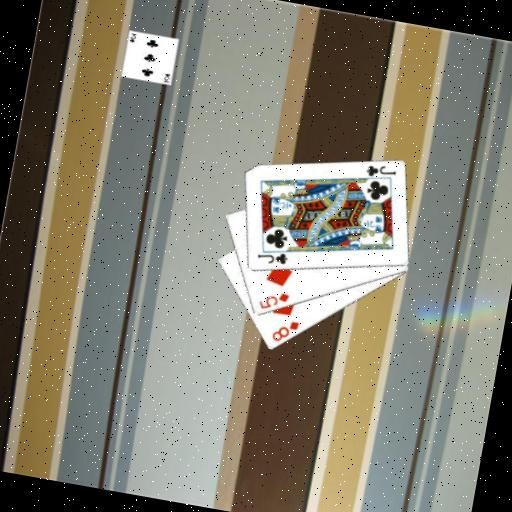5D: (254, 286, 291, 315)
8D: (267, 315, 301, 347)
JC: (362, 159, 398, 183), (252, 245, 289, 268)
